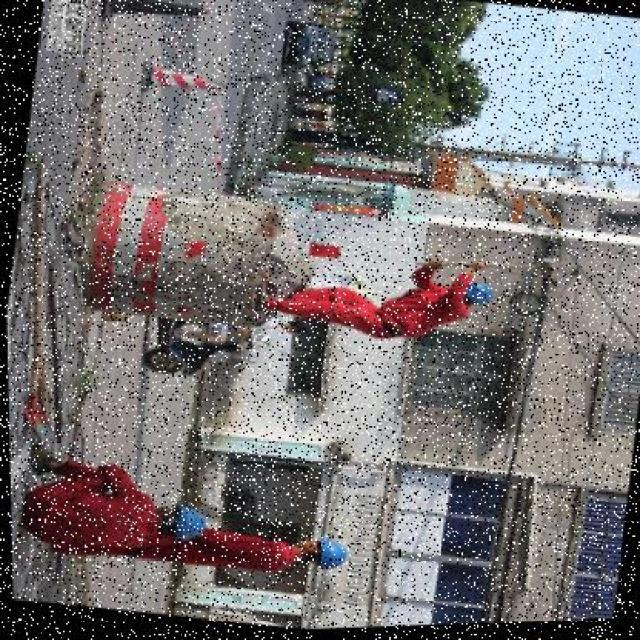helmet: (161, 500, 203, 546), (306, 540, 350, 574), (457, 285, 495, 315)
